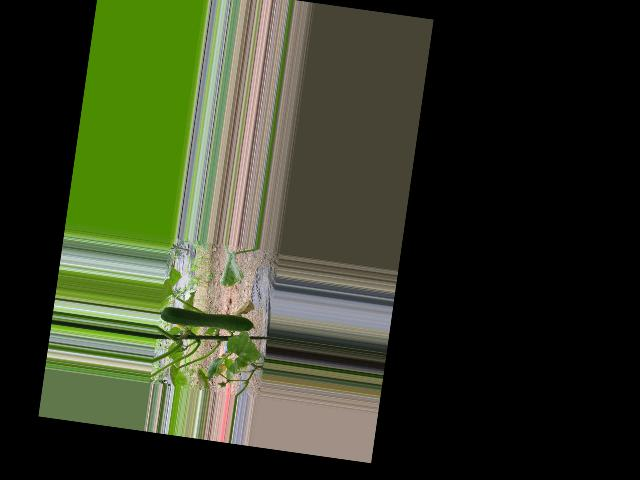cucumber: (160, 304, 257, 335)
